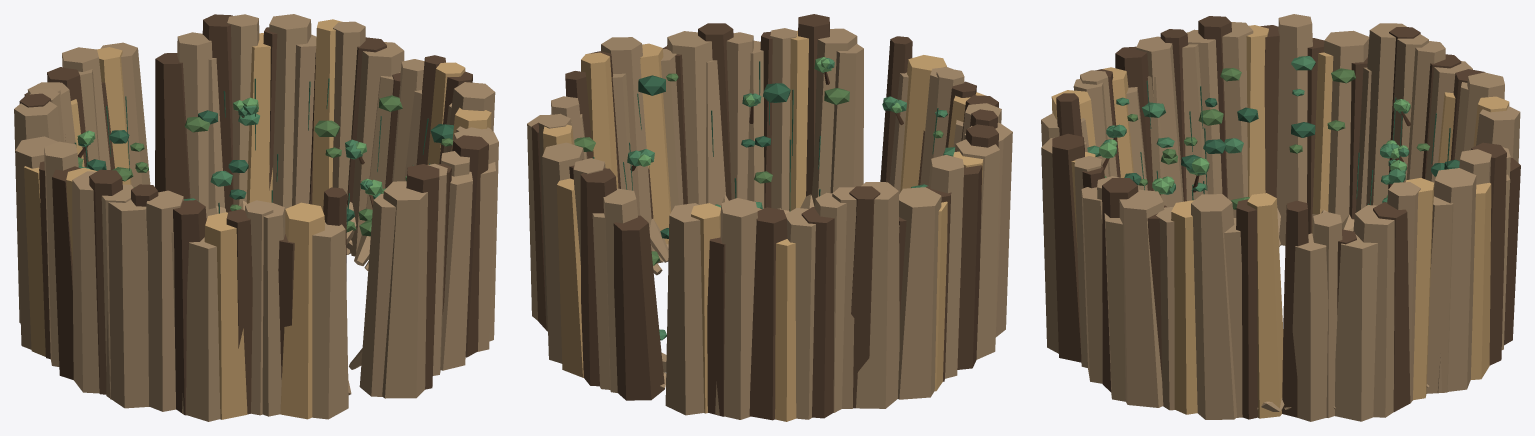
File: aelith_paroi.glb
3 views of the same model, side by side, from view 1: azimuth 30°, elevation 25°; view 2: azimuth 150°, elevation 25°; view 3: azimuth 270°, elevation 25° (orthographic).
Visible parts, largest first — view 1: aelith_paroi; view 2: aelith_paroi; view 3: aelith_paroi.
Part boxes in pixels (x1,y1,x2,y2): aelith_paroi: (14, 14, 498, 421); aelith_paroi: (527, 14, 1012, 421); aelith_paroi: (1041, 14, 1520, 421).
Size of the model in its own units: 143 by 79.37 by 144.
